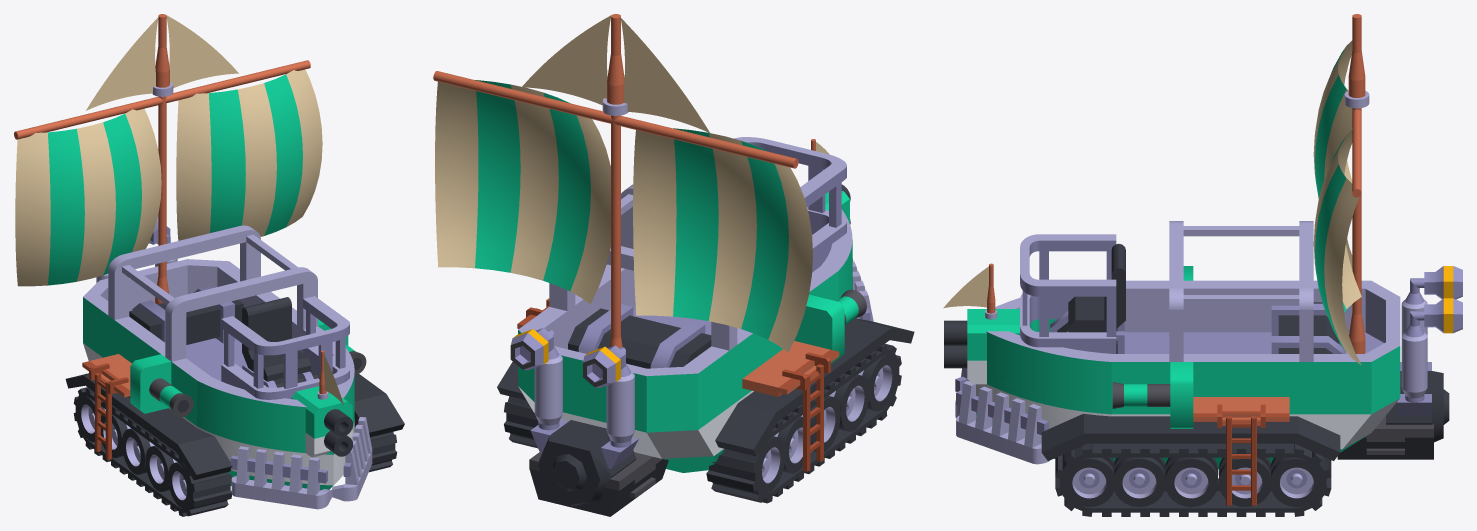
The model's file is Tank_Boat.fbx.
The picture shows the model from 3 angles, left to right: view 1: azimuth 30°, elevation 25°; view 2: azimuth 150°, elevation 25°; view 3: azimuth 270°, elevation 25°; orthographic projection. The views are drawn at different scales.
Visible parts, largest first — view 1: sail_stripesVertical (×2), detail_rollbarLarge, hut_open, bumper_grill (×2), wheel_coverSquareExtended (×3), rail_backEdge, rail_frontSmooth, sail_triangle (×2), wheel_tank (×5), mast_middle (×4), track_wideSide (×3), blaster_barrelDouble (+11 smaller); view 2: sail_stripesVertical (×2), rail_backEdge, sail_triangle (×2), wheel_coverSquareExtended (×3), wheel_tank (×5), steam_engine_front, mast_middle (×4), track_wideSide (×3), hull_backEdge, detail_luggage, hut_open, detail_exhaustVertical (×2) (+11 smaller); view 3: wheel_tank (×5), rail_backEdge, rail, sail_stripesVertical (×2), hut_open, wheel_coverSquareExtended (×2), detail_rollbarLarge, rail_frontSmooth, bumper_grill, track_wideSide (×2), hull_backEdge, hull (+15 smaller).
Boxes of the visible parts, bbox=[...] form: sail_stripesVertical (×2): bbox=[15, 69, 322, 286]; detail_rollbarLarge: bbox=[108, 225, 317, 361]; hut_open: bbox=[221, 296, 349, 399]; bumper_grill (×2): bbox=[230, 417, 372, 509]; wheel_coverSquareExtended (×3): bbox=[65, 373, 404, 480]; rail_backEdge: bbox=[83, 259, 279, 363]; rail_frontSmooth: bbox=[197, 346, 354, 445]; sail_triangle (×2): bbox=[86, 15, 238, 110]; wheel_tank (×5): bbox=[77, 396, 190, 508]; mast_middle (×4): bbox=[14, 60, 310, 245]; track_wideSide (×3): bbox=[73, 387, 397, 516]; blaster_barrelDouble: bbox=[291, 386, 352, 457]; sail_stripesVertical (×2): bbox=[435, 80, 812, 352]; rail_backEdge: bbox=[518, 288, 760, 423]; sail_triangle (×2): bbox=[522, 15, 709, 132]; wheel_coverSquareExtended (×3): bbox=[497, 318, 914, 456]; wheel_tank (×5): bbox=[757, 355, 896, 493]; steam_engine_front: bbox=[530, 419, 638, 505]; mast_middle (×4): bbox=[433, 71, 798, 300]; track_wideSide (×3): bbox=[504, 343, 901, 503]; hull_backEdge: bbox=[518, 377, 753, 472]; detail_luggage: bbox=[568, 304, 711, 368]; hut_open: bbox=[734, 137, 846, 271]; detail_exhaustVertical (×2): bbox=[534, 329, 634, 447]; wheel_tank (×5): bbox=[1063, 457, 1322, 507]; rail_backEdge: bbox=[1256, 280, 1400, 405]; rail: bbox=[1111, 280, 1255, 405]; sail_stripesVertical (×2): bbox=[1313, 40, 1361, 365]; hut_open: bbox=[1020, 234, 1116, 353]; wheel_coverSquareExtended (×2): bbox=[1041, 414, 1340, 460]; detail_rollbarLarge: bbox=[1169, 221, 1313, 361]; rail_frontSmooth: bbox=[986, 298, 1111, 405]; bumper_grill: bbox=[956, 381, 1049, 464]; track_wideSide (×2): bbox=[1055, 443, 1331, 516]; hull_backEdge: bbox=[1256, 332, 1400, 463]; hull: bbox=[1111, 332, 1255, 469].
Size of the model in its own units: 42 by 50.9 by 54.
